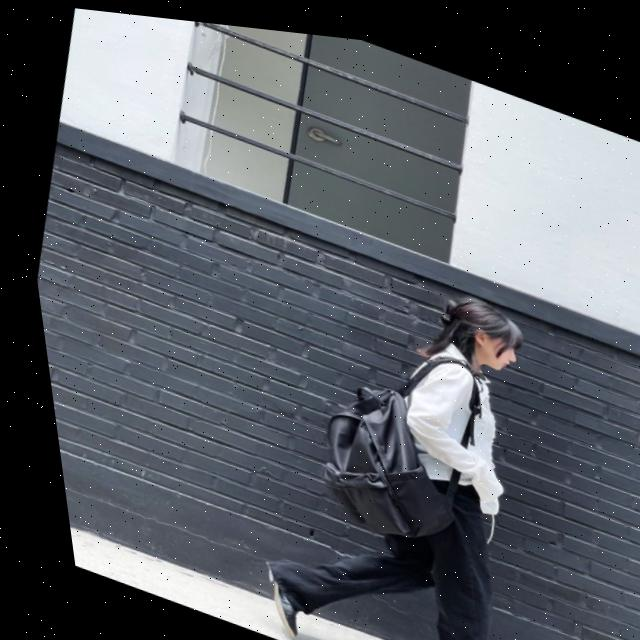backpack: (248, 290, 536, 576)
